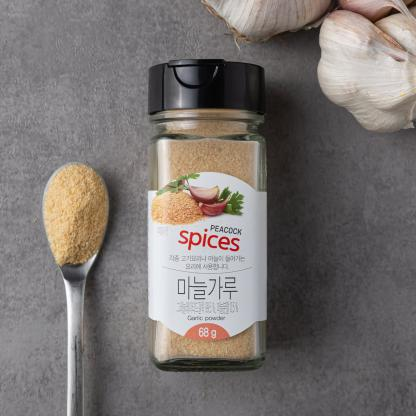garlic: (310, 10, 416, 142), (210, 0, 320, 40)
